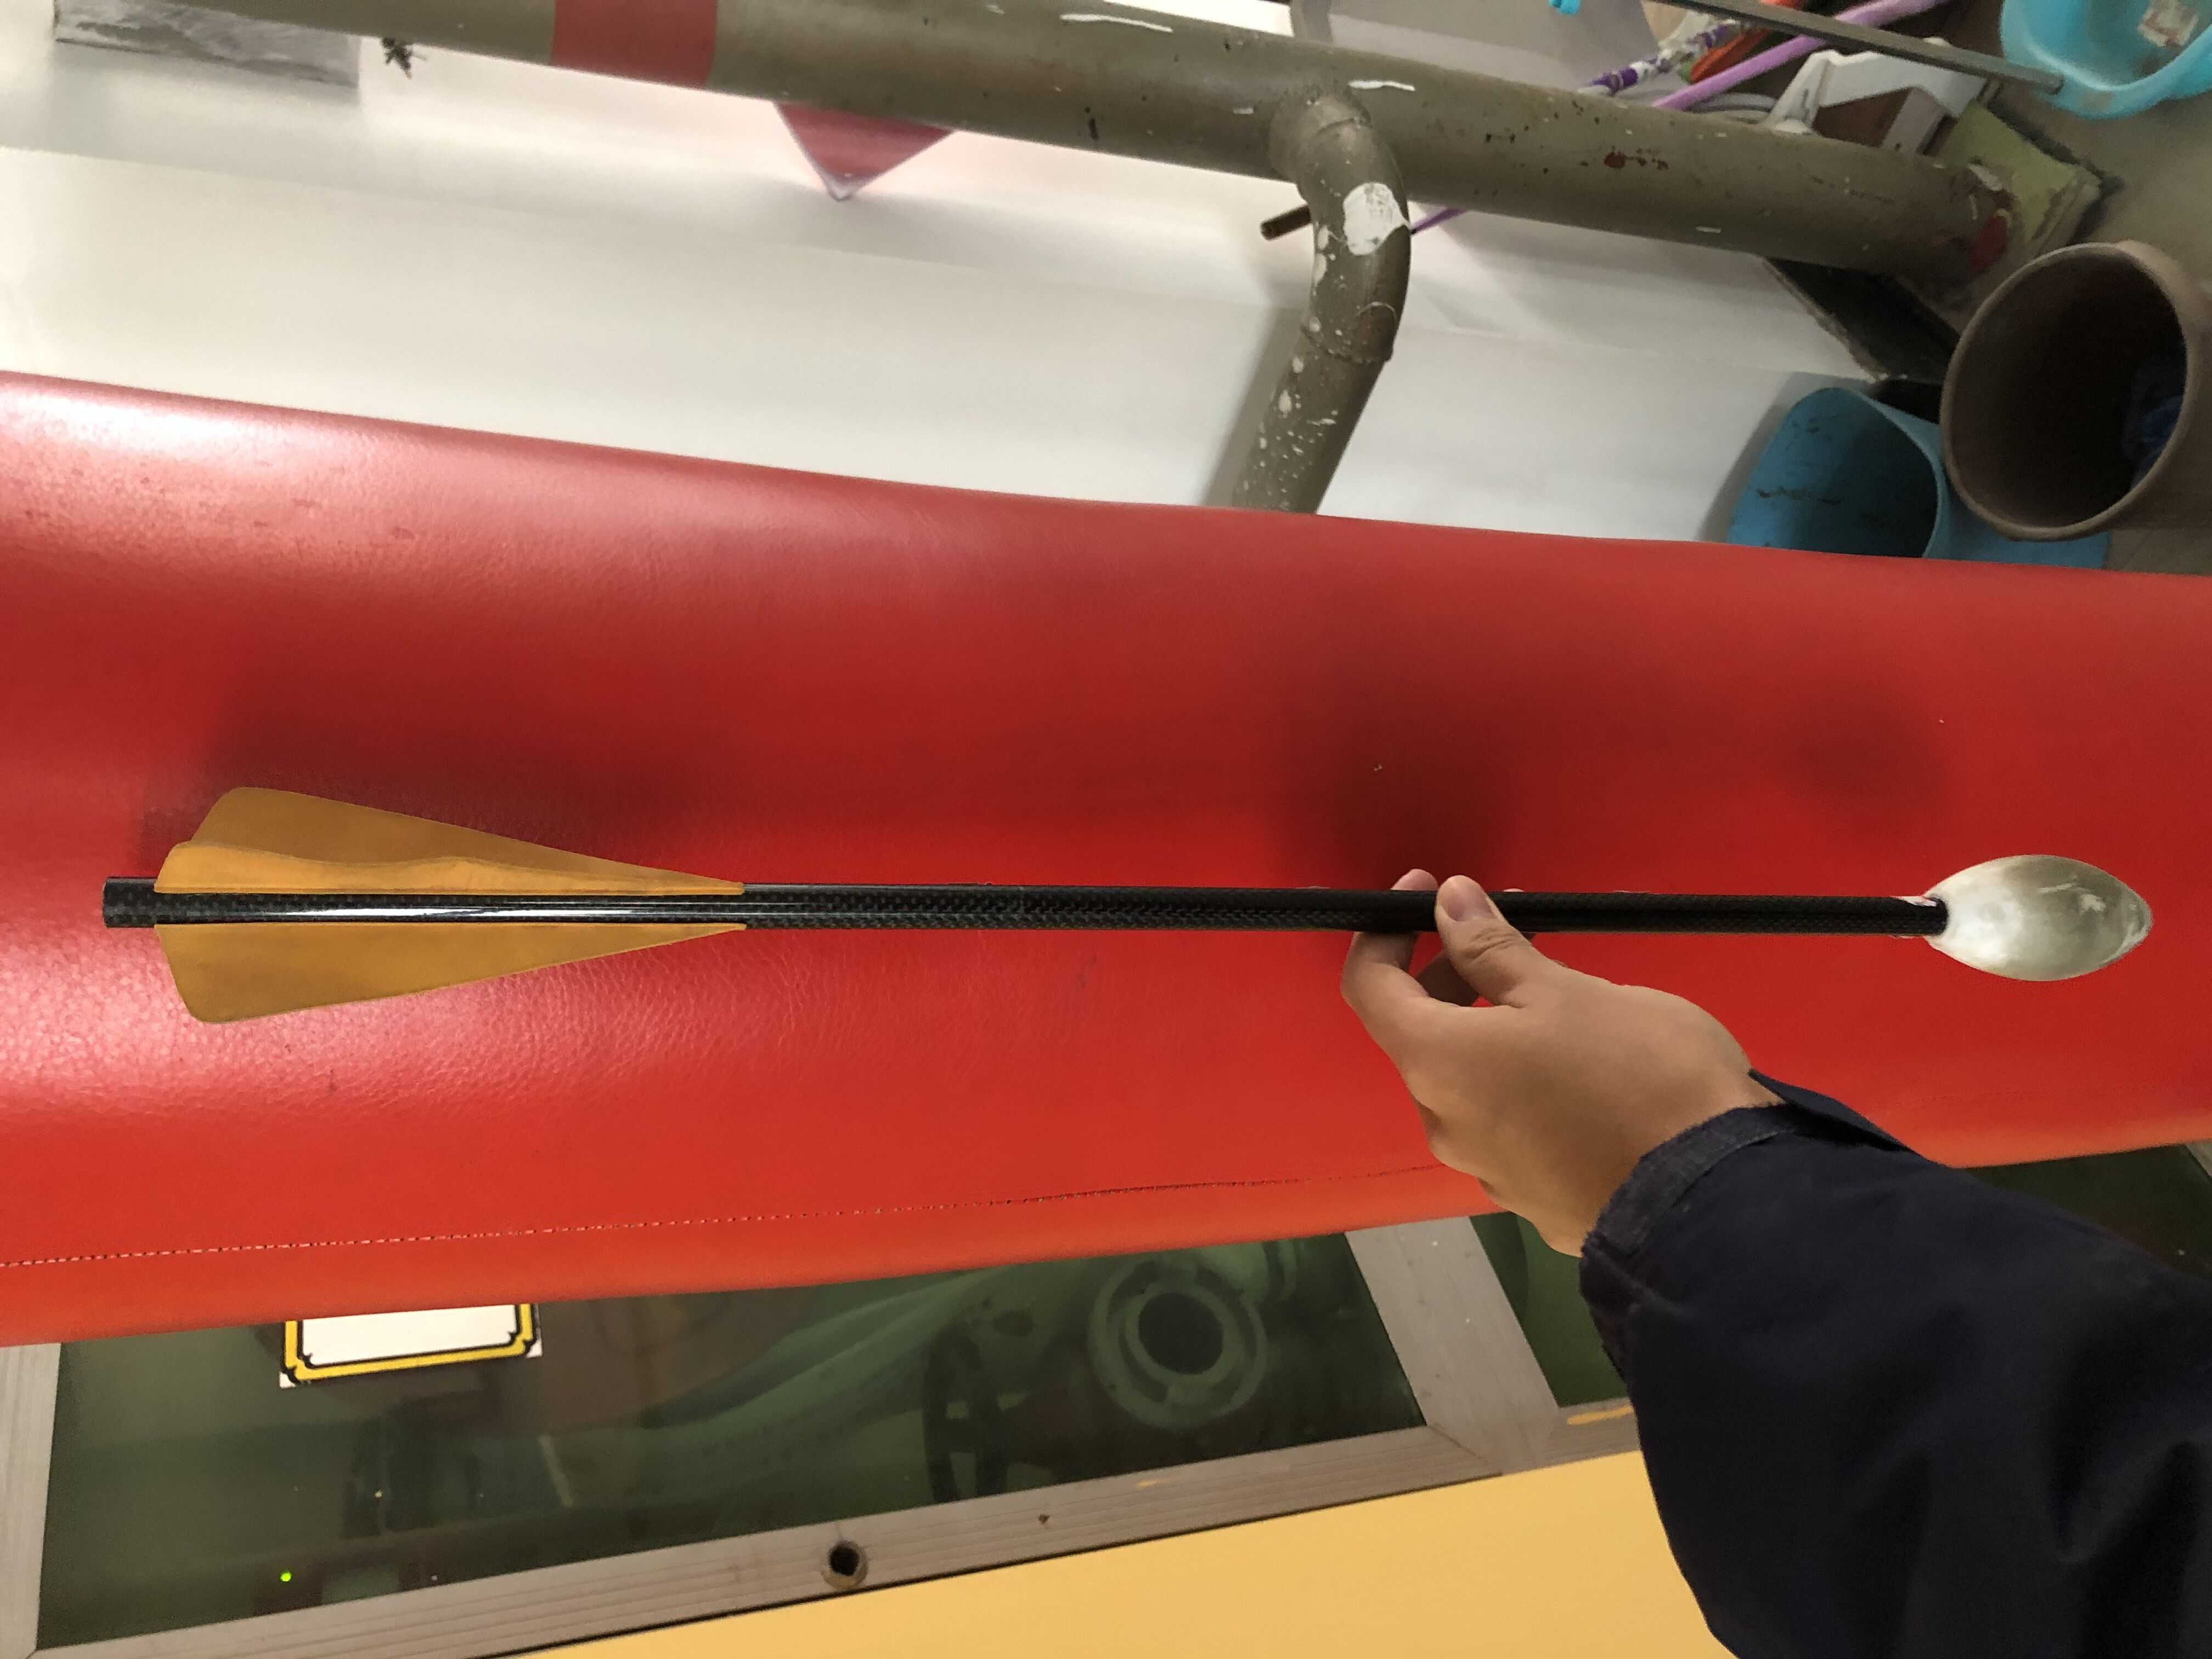arrow: (99, 782, 2158, 1026)
arrowFront: (1919, 852, 2155, 981)
